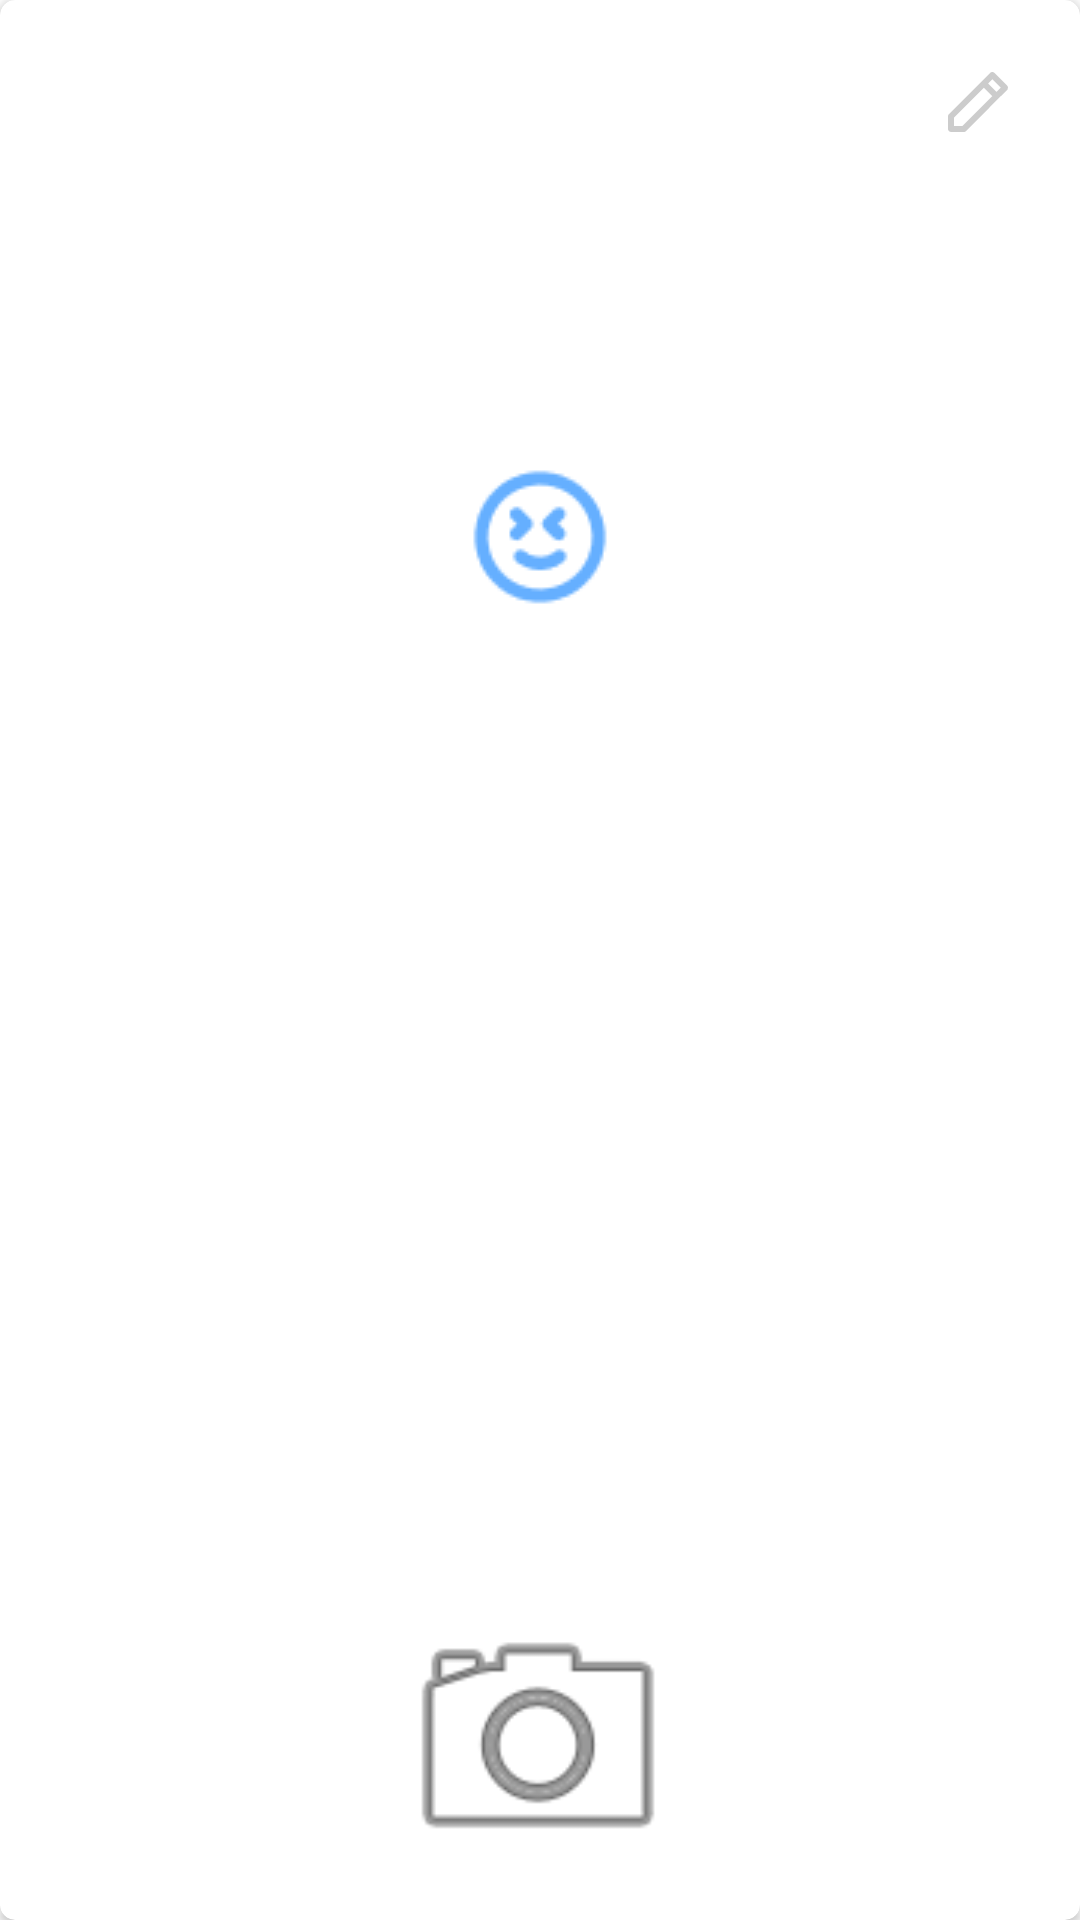

Icon bounding boxes for this 1080 x 1920 phone screenshot, format (x1, y1, x2, y2):
camera: (422, 1643, 654, 1828)
Edit this selection: (948, 72, 1008, 132)
